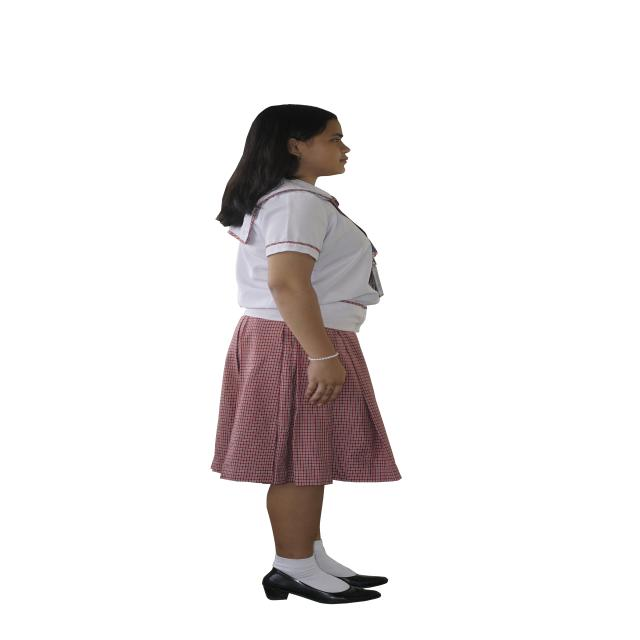pologirl: (228, 181, 378, 332)
shoes: (262, 568, 388, 604)
skirt: (212, 316, 401, 486)
